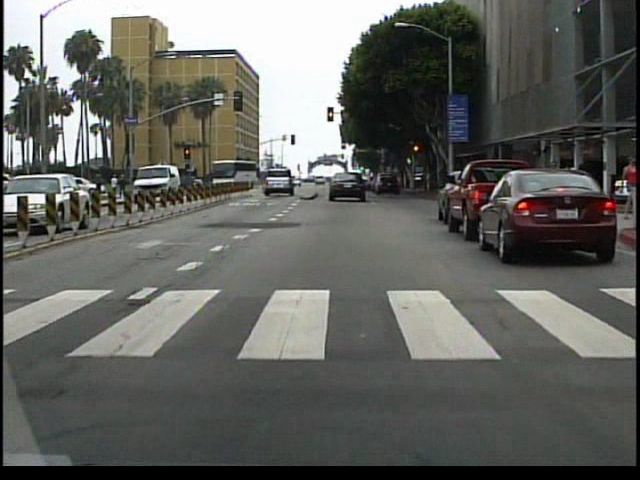person: (615, 157, 634, 221), (93, 171, 106, 202), (109, 172, 122, 201), (119, 175, 131, 191)
